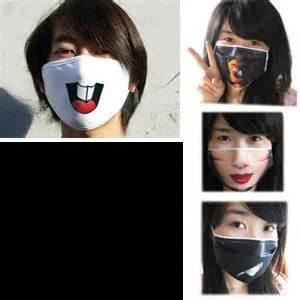OK: (50, 39, 130, 119), (217, 216, 278, 278), (211, 127, 272, 185), (215, 30, 273, 91)
